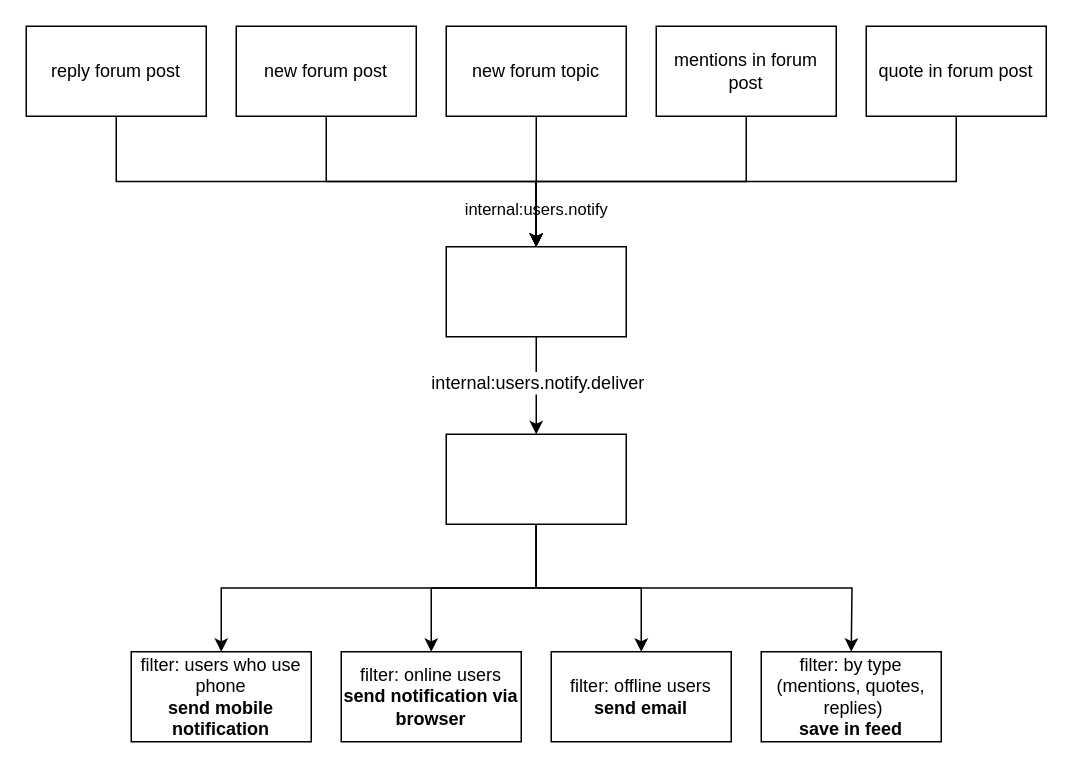
The diagram is 1073 pixels wide and 768 high, and some of its shapes have lost their labels. Each missing label, with the centre of its shape:
buffer with delay: (x=535, y=291)
filter: by access: (x=535, y=478)
